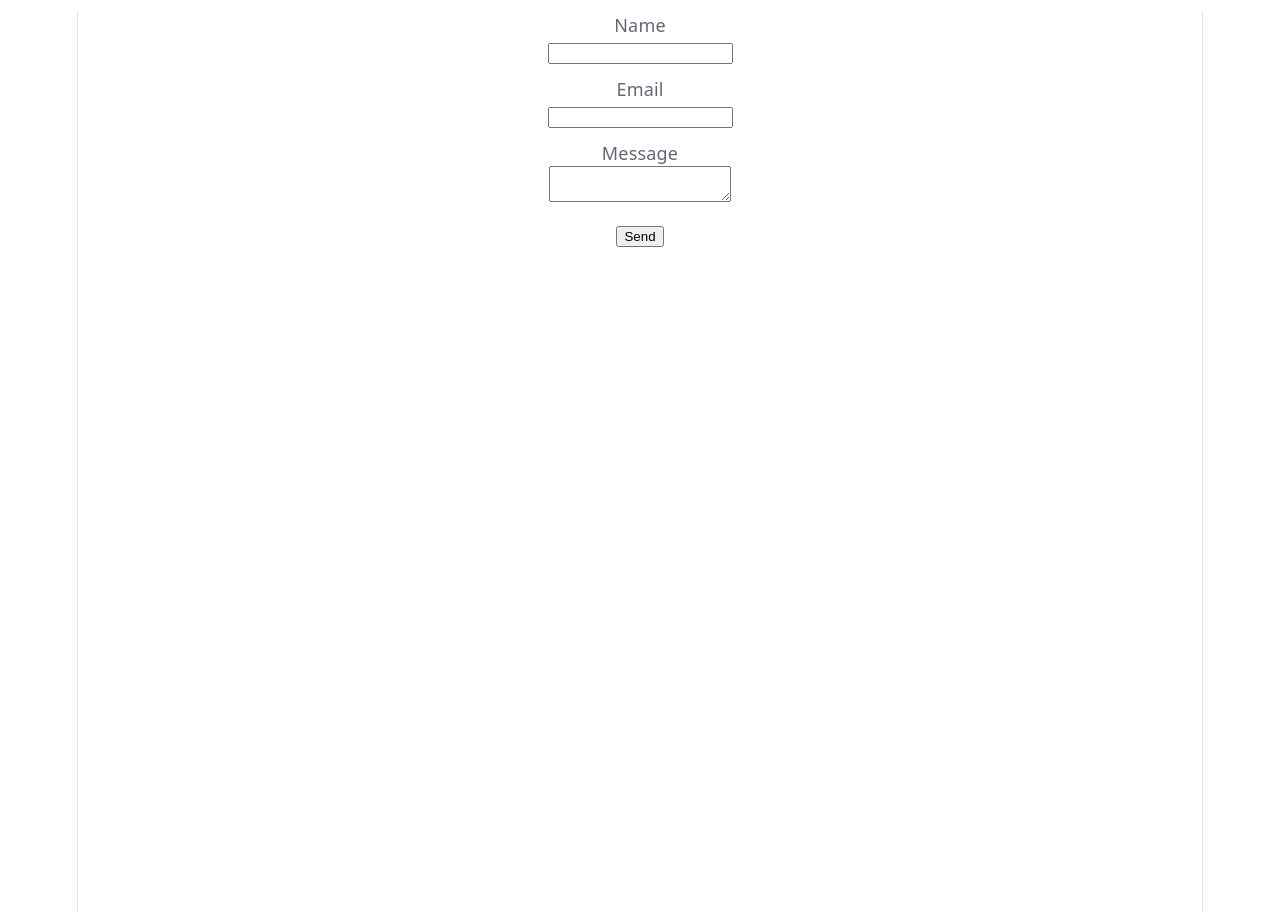
Scenario: ContactForm › submitting empty shows all three errors and moves focus to the summary
This screenshot has width=1280, height=912.
Click the button "Send" at (640, 236), box [616,226,664,247]
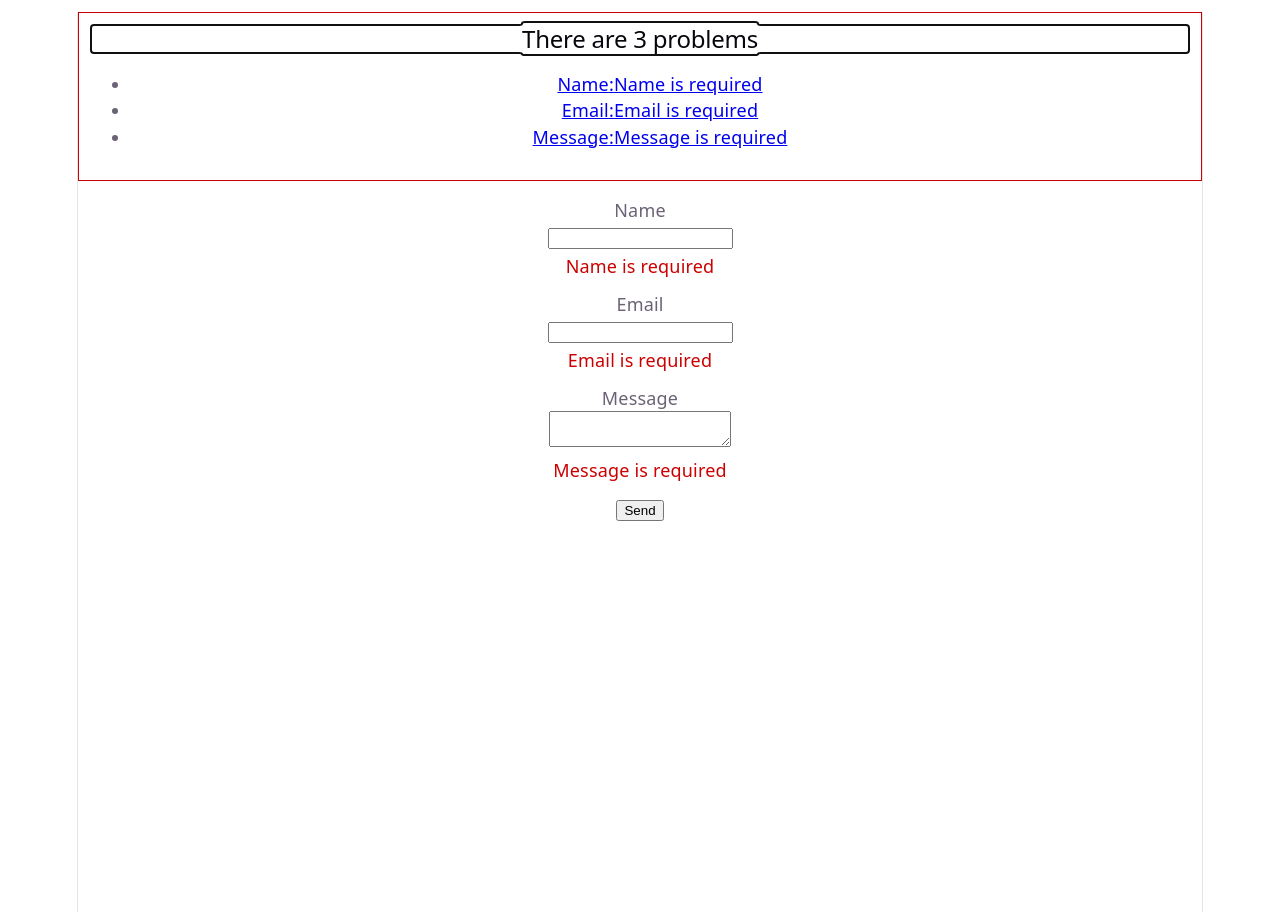
Result: the message is shown at [78,12,1202,181]
Result: the heading "There are 3 problems" is shown at [522,22,758,55]
Result: the text "Name is required" is shown at [566,254,714,278]
